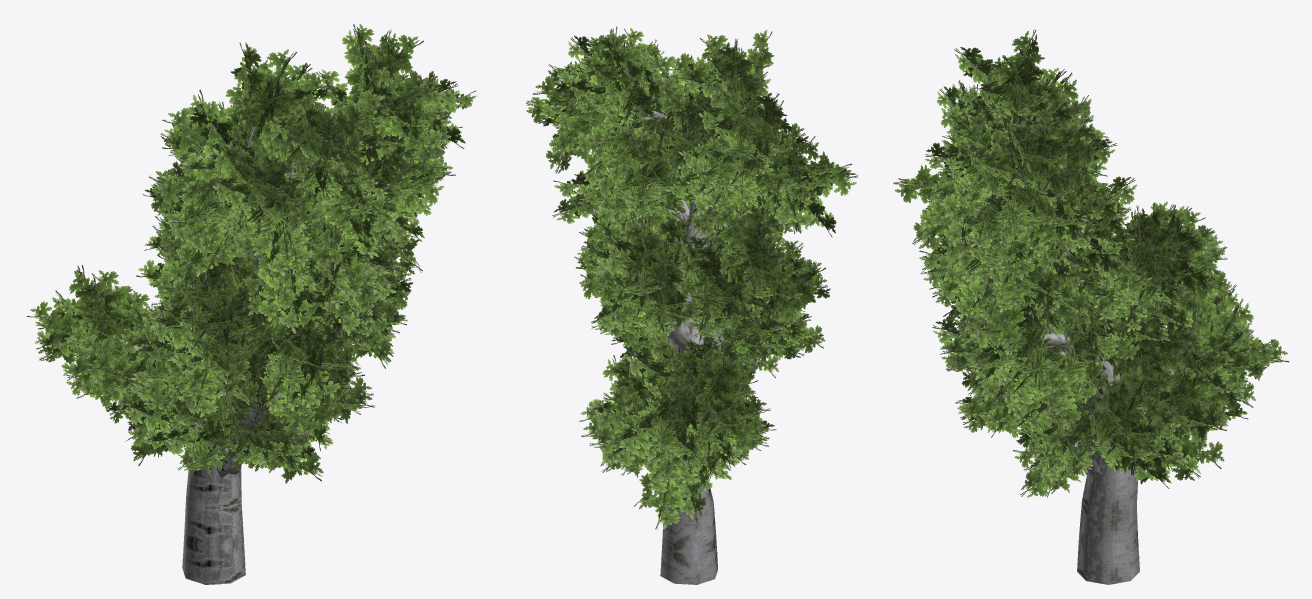
File: eztree-american-sycamore-damp-a.glb
3 views of the same model, side by side, from view 1: azimuth 30°, elevation 25°; view 2: azimuth 150°, elevation 25°; view 3: azimuth 270°, elevation 25° (orthographic). The views are drawn at different scales.
Parts seen in each view (by area): view 1: eztree-american-sycamore-damp-a; view 2: eztree-american-sycamore-damp-a; view 3: eztree-american-sycamore-damp-a.
Boxes of the visible parts, x1,y1,x2,y2 form: eztree-american-sycamore-damp-a: (27,24,476,584); eztree-american-sycamore-damp-a: (526,27,857,584); eztree-american-sycamore-damp-a: (893,29,1289,584).
Size of the model in its own units: 40.7 by 61.13 by 41.45.
2 materials, 2 textured.
